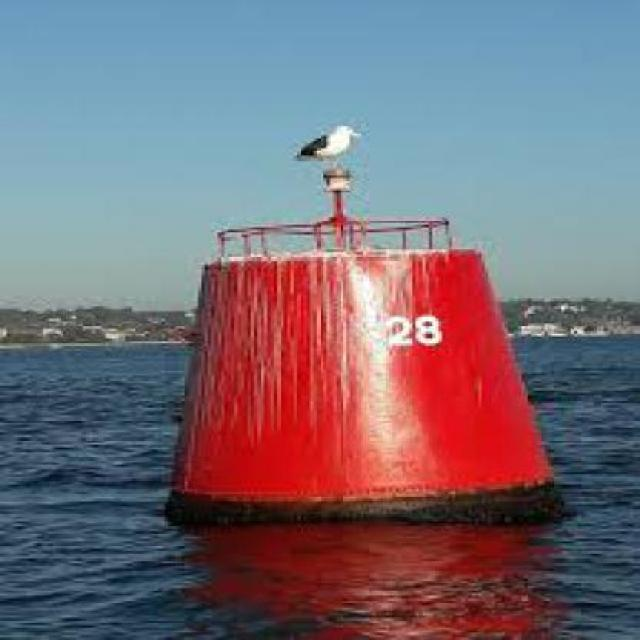buoy: (149, 99, 572, 535)
